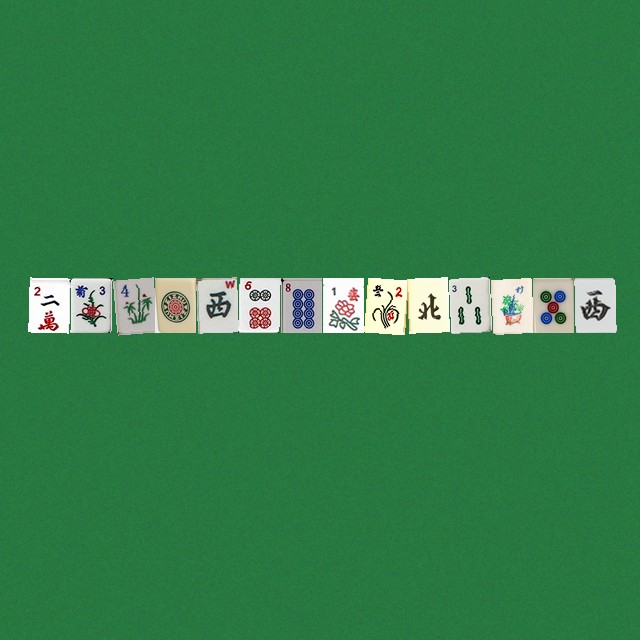tile: (28, 277, 69, 332), (70, 277, 111, 332), (112, 277, 153, 332), (154, 277, 195, 332), (196, 277, 237, 332), (238, 277, 279, 332), (280, 277, 321, 332), (322, 277, 363, 332), (364, 277, 405, 332), (406, 277, 447, 332), (448, 277, 489, 332), (490, 277, 531, 332), (532, 277, 573, 332), (574, 277, 615, 332)
